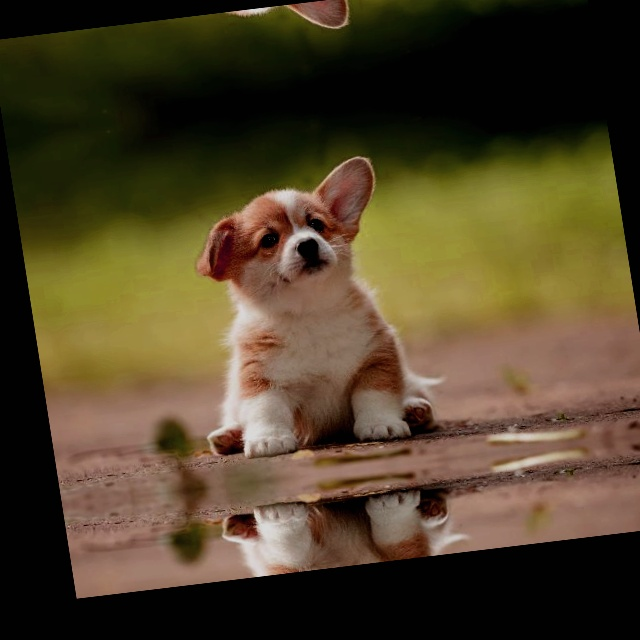dog: (174, 135, 399, 347), (152, 0, 356, 68)
